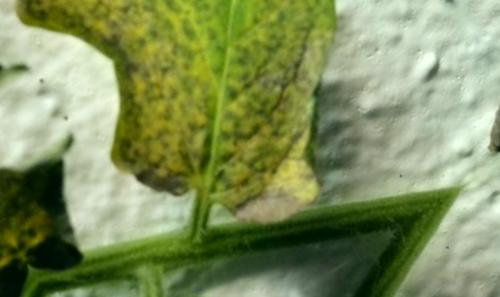Tomato leaf bacterial spot: (69, 0, 431, 273)
